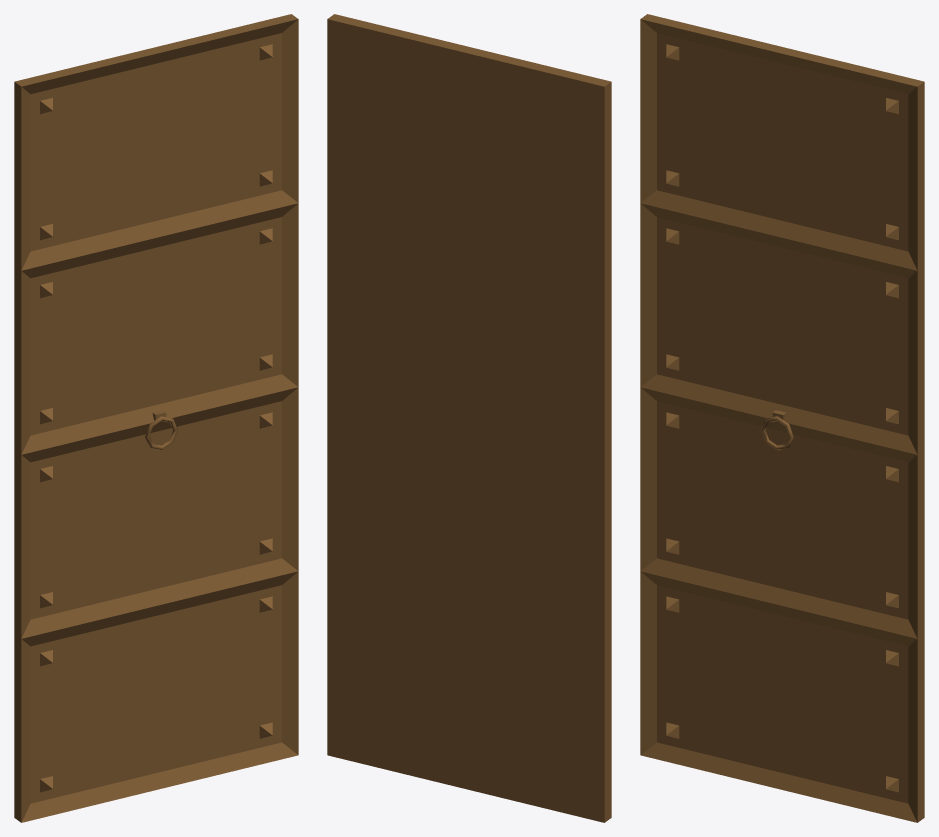
The model's file is rome_tibkit_door_bronze.glb.
3 views of the same model, side by side, from view 1: azimuth 30°, elevation 25°; view 2: azimuth 150°, elevation 25°; view 3: azimuth 330°, elevation 25° (orthographic).
Visible parts, largest first — view 1: shell; view 2: shell; view 3: shell.
Part boxes in pixels (box(x1,y1,x2,y2)): shell: box(14, 14, 298, 822); shell: box(327, 14, 611, 822); shell: box(640, 14, 924, 822).
Size of the model in its own units: 1.3 by 3.3 by 0.08.
